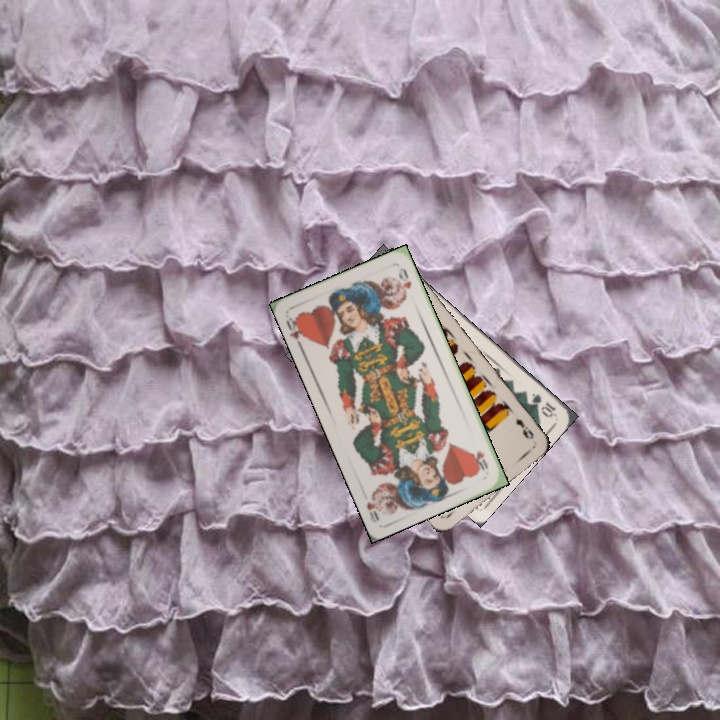E9: (511, 414, 537, 442)
G10: (528, 389, 559, 420)
HO: (282, 312, 309, 350), (469, 447, 491, 473)
